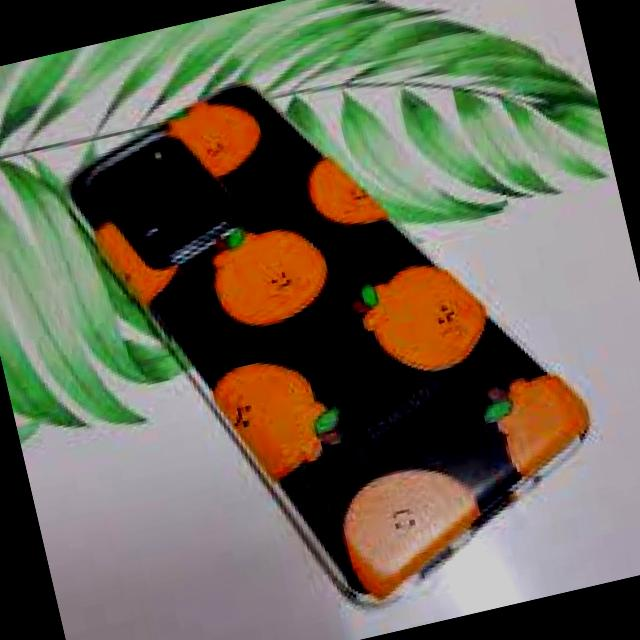phone: (49, 15, 624, 640)
